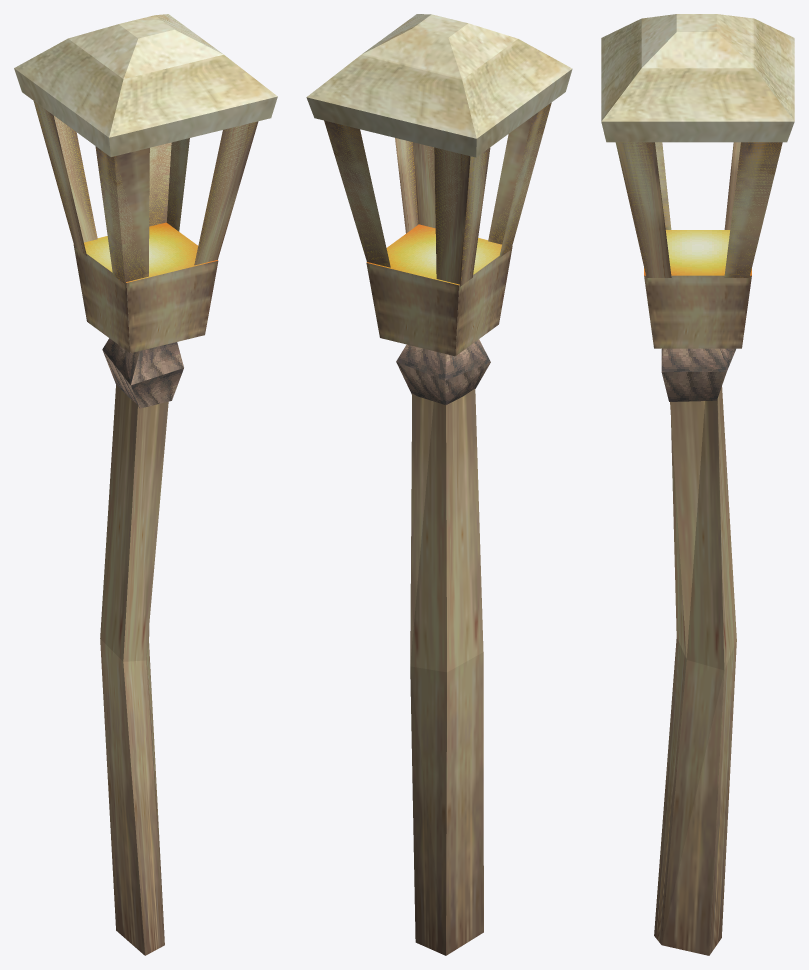
File: C2SMPOLELIGHT1H.obj
3 views of the same model, side by side, from view 1: azimuth 30°, elevation 25°; view 2: azimuth 150°, elevation 25°; view 3: azimuth 270°, elevation 25° (orthographic).
Visible parts, largest first — view 1: Node 0; view 2: Node 0; view 3: Node 0.
Boxes of the visible parts, box(x1,y1,x2,y2) form: Node 0: box(14, 14, 277, 955); Node 0: box(306, 14, 572, 955); Node 0: box(601, 14, 794, 955).
Size of the model in its own units: 0.79 by 4.06 by 0.77.
3 materials, 3 textured.
